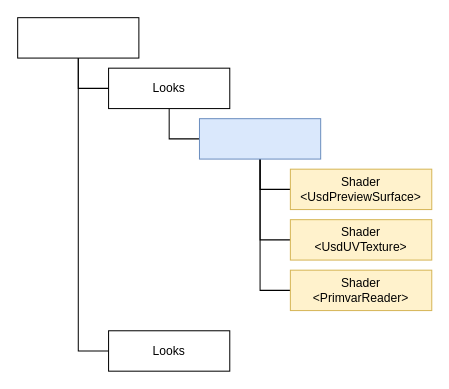
Some shapes in this 449 by 389 pixel diagram are drawn without their labels. The centre of each missing label's shape, as x and y in pixels:
AssetName: (78,37)
Material: (259,138)
